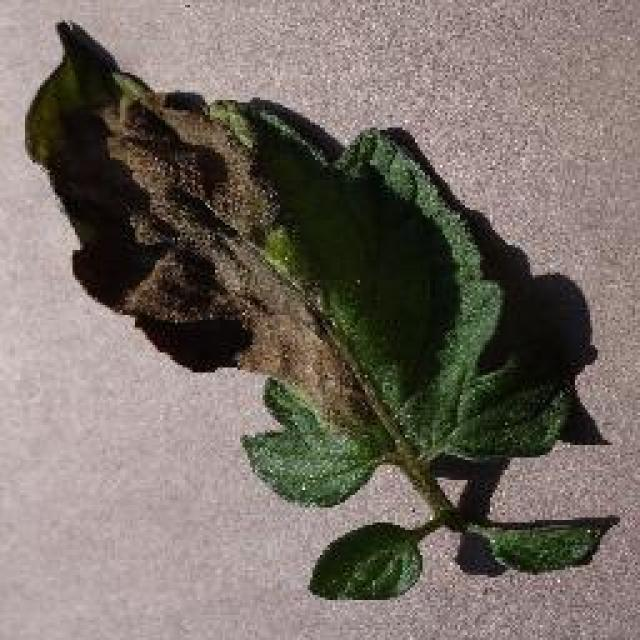Tomato Late Blight: (47, 8, 358, 480)
